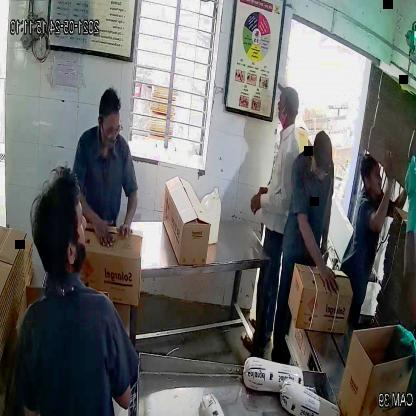goggles: (98, 117, 125, 142)
